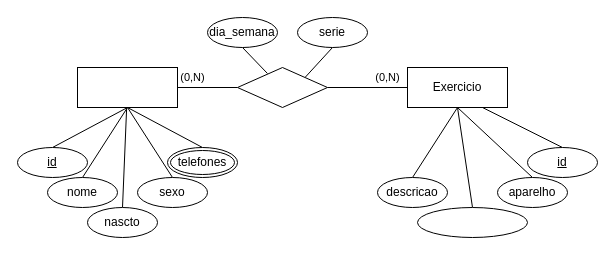
Some shapes in this 615 by 255 pixel diagram are drawn without their labels. Each missing label, with the box of its shape:
Aluno: (76, 66, 178, 108)
ficha: (236, 66, 328, 108)
grupo_muscular: (416, 206, 528, 238)
